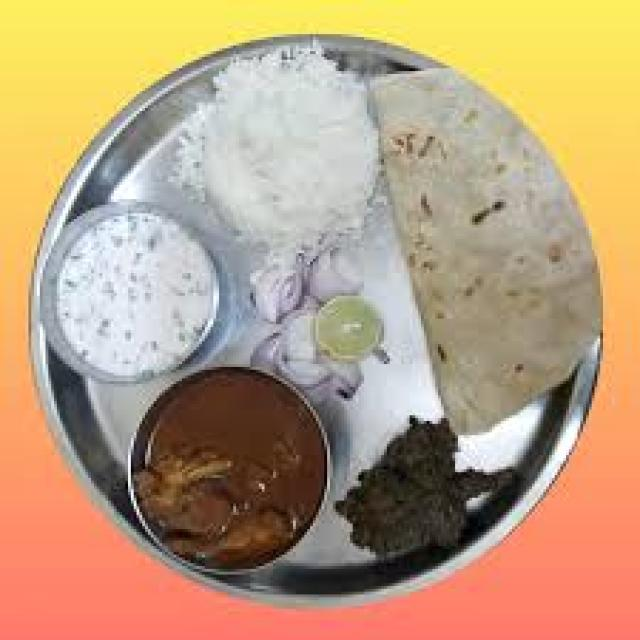ROTI: (373, 68, 597, 432)
